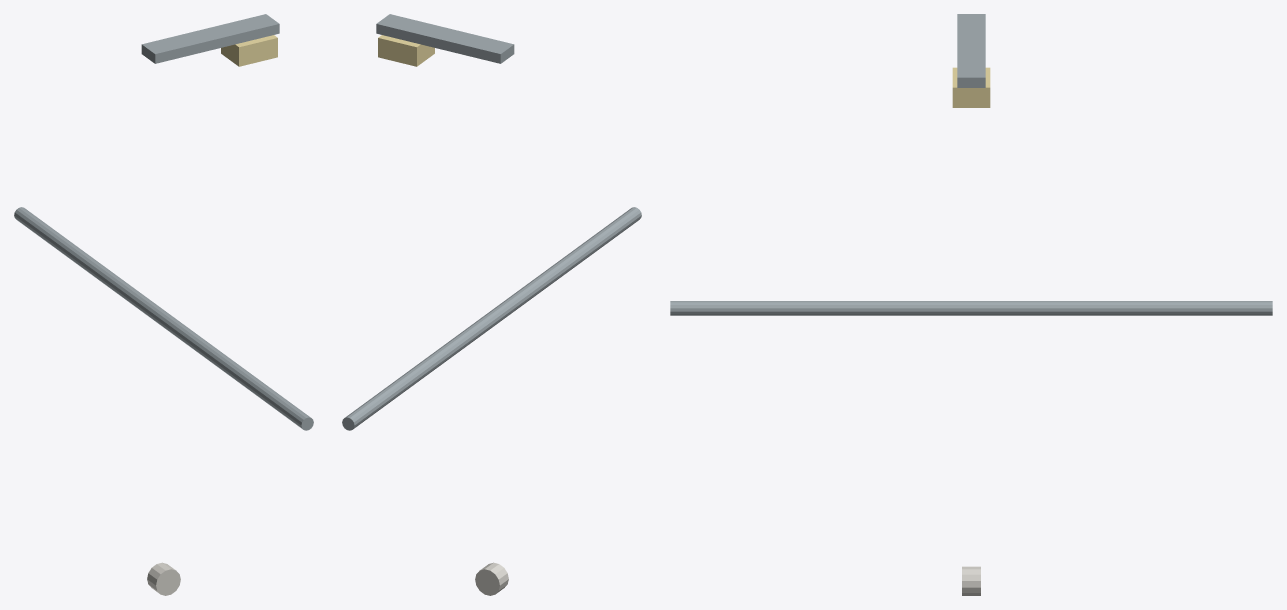
Rendered from streetlight.glb.
3 renders of one model, left to right at view 1: azimuth 30°, elevation 25°; view 2: azimuth 150°, elevation 25°; view 3: azimuth 270°, elevation 25°, orthographic. The views are drawn at different scales.
Visible parts, largest first — view 1: p001, p002, p003, p000; view 2: p001, p002, p003, p000; view 3: p001, p002, p003.
Part boxes in pixels (<box>): p001: <box>14,207,313,430</box>; p002: <box>141,14,279,63</box>; p003: <box>221,35,277,66</box>; p000: <box>147,562,180,595</box>; p001: <box>342,207,641,430</box>; p002: <box>376,14,514,63</box>; p003: <box>378,35,434,66</box>; p000: <box>475,562,508,595</box>; p001: <box>670,301,1272,315</box>; p002: <box>957,14,985,87</box>; p003: <box>952,67,990,107</box>.
Bounding box in the file's own units: 0.8 × 3.36 × 3.2.
